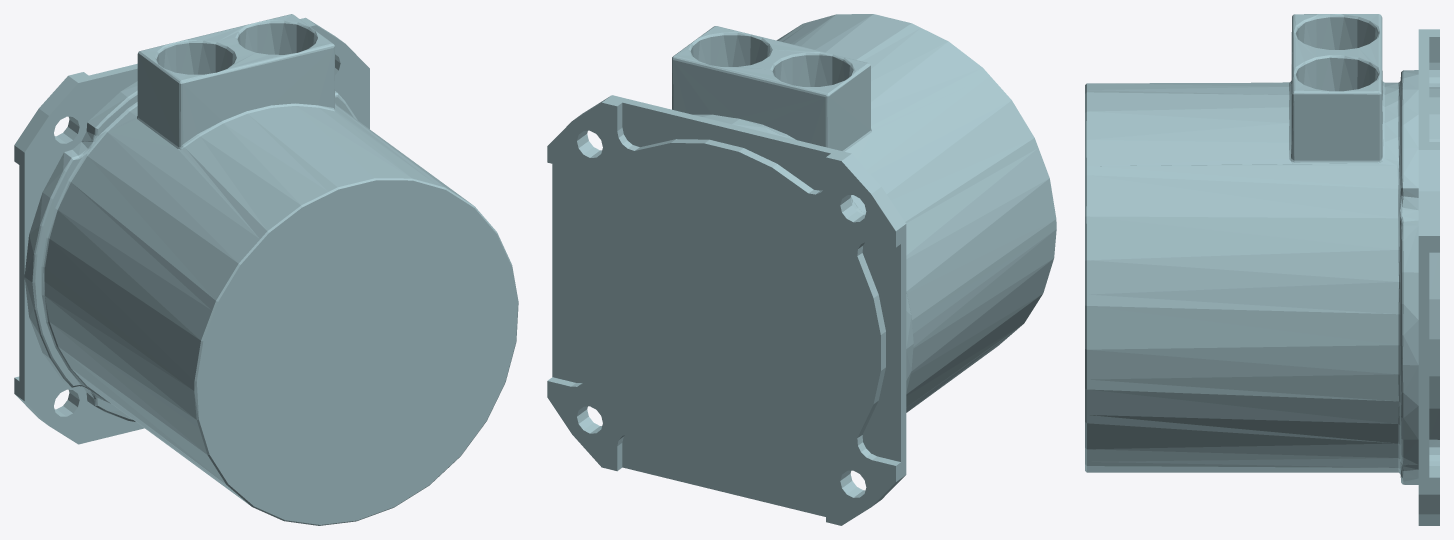
3 views of the same model, side by side, from view 1: azimuth 30°, elevation 25°; view 2: azimuth 150°, elevation 25°; view 3: azimuth 270°, elevation 25° (orthographic). The views are drawn at different scales.
Visible parts, largest first — view 1: link0; view 2: link0; view 3: link0.
Part boxes in pixels (x1,y1,x2,y2): link0: (14,14,518,525); link0: (547,14,1056,525); link0: (1085,14,1439,525).
Bounding box in the file's own units: 0.234 × 0.257 × 0.2.
